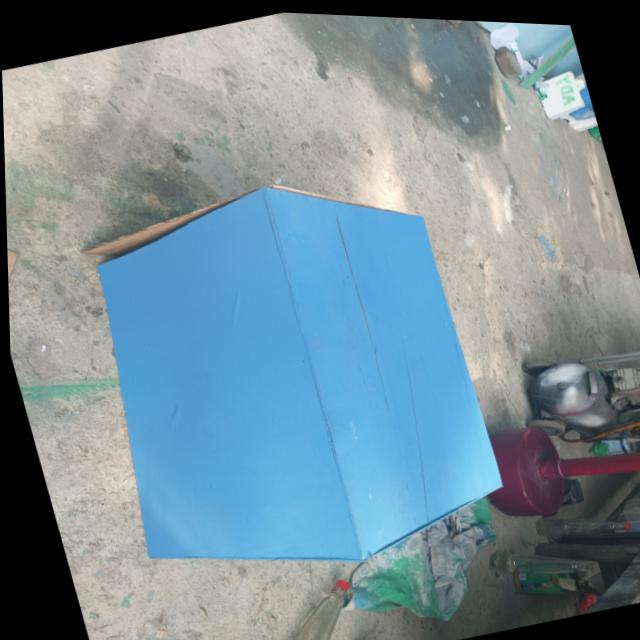blue_box: (60, 132, 523, 625)
